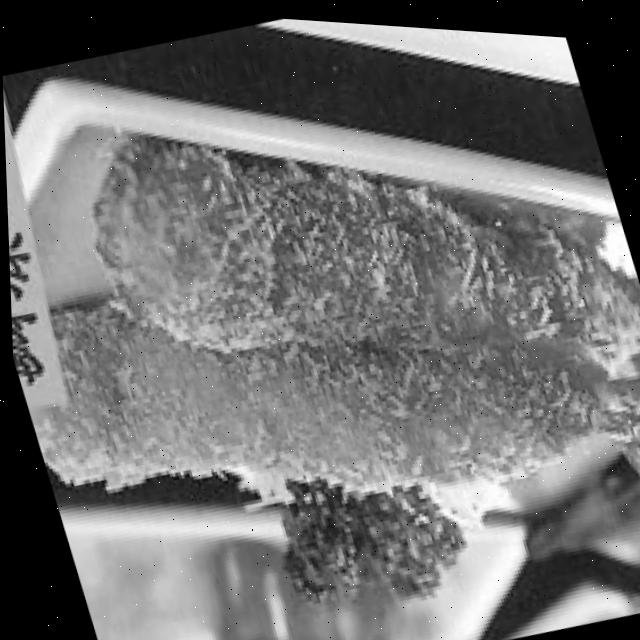炸货点心: (0, 9, 640, 640)
熟制海鲜: (0, 9, 640, 640)
